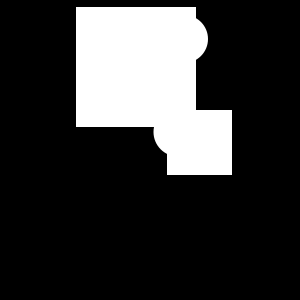circle: (76, 7, 196, 127), (167, 110, 232, 175)
rectangle: (154, 108, 202, 157), (160, 15, 208, 63), (78, 64, 104, 90)
